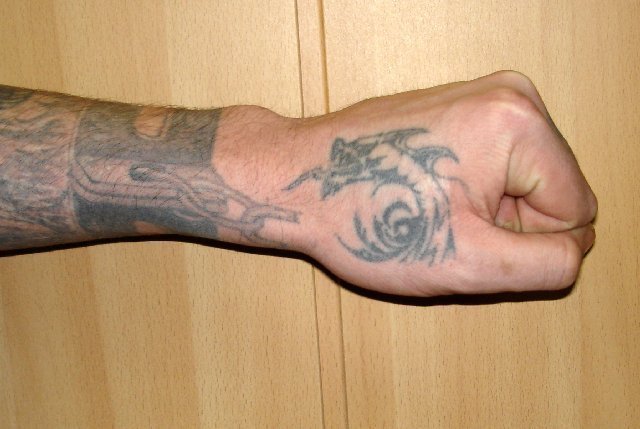tatu6_drakon: (272, 133, 500, 269)
